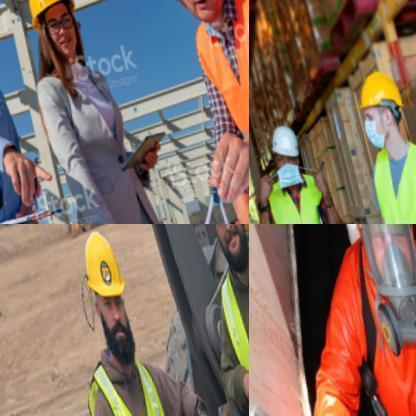Boots: (85, 228, 125, 300), (357, 68, 413, 114), (355, 68, 412, 109), (268, 123, 308, 163), (268, 124, 308, 160)
Glass: (79, 353, 191, 416), (267, 173, 325, 229), (377, 142, 414, 228)
